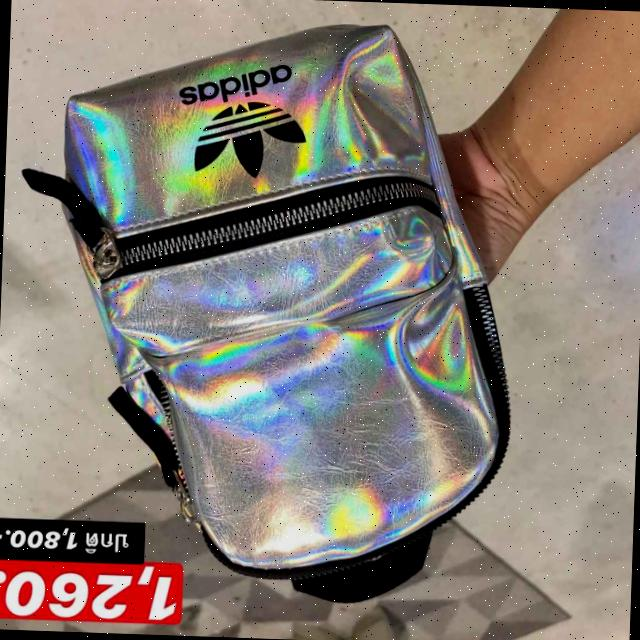Handbag: (47, 13, 522, 588)
